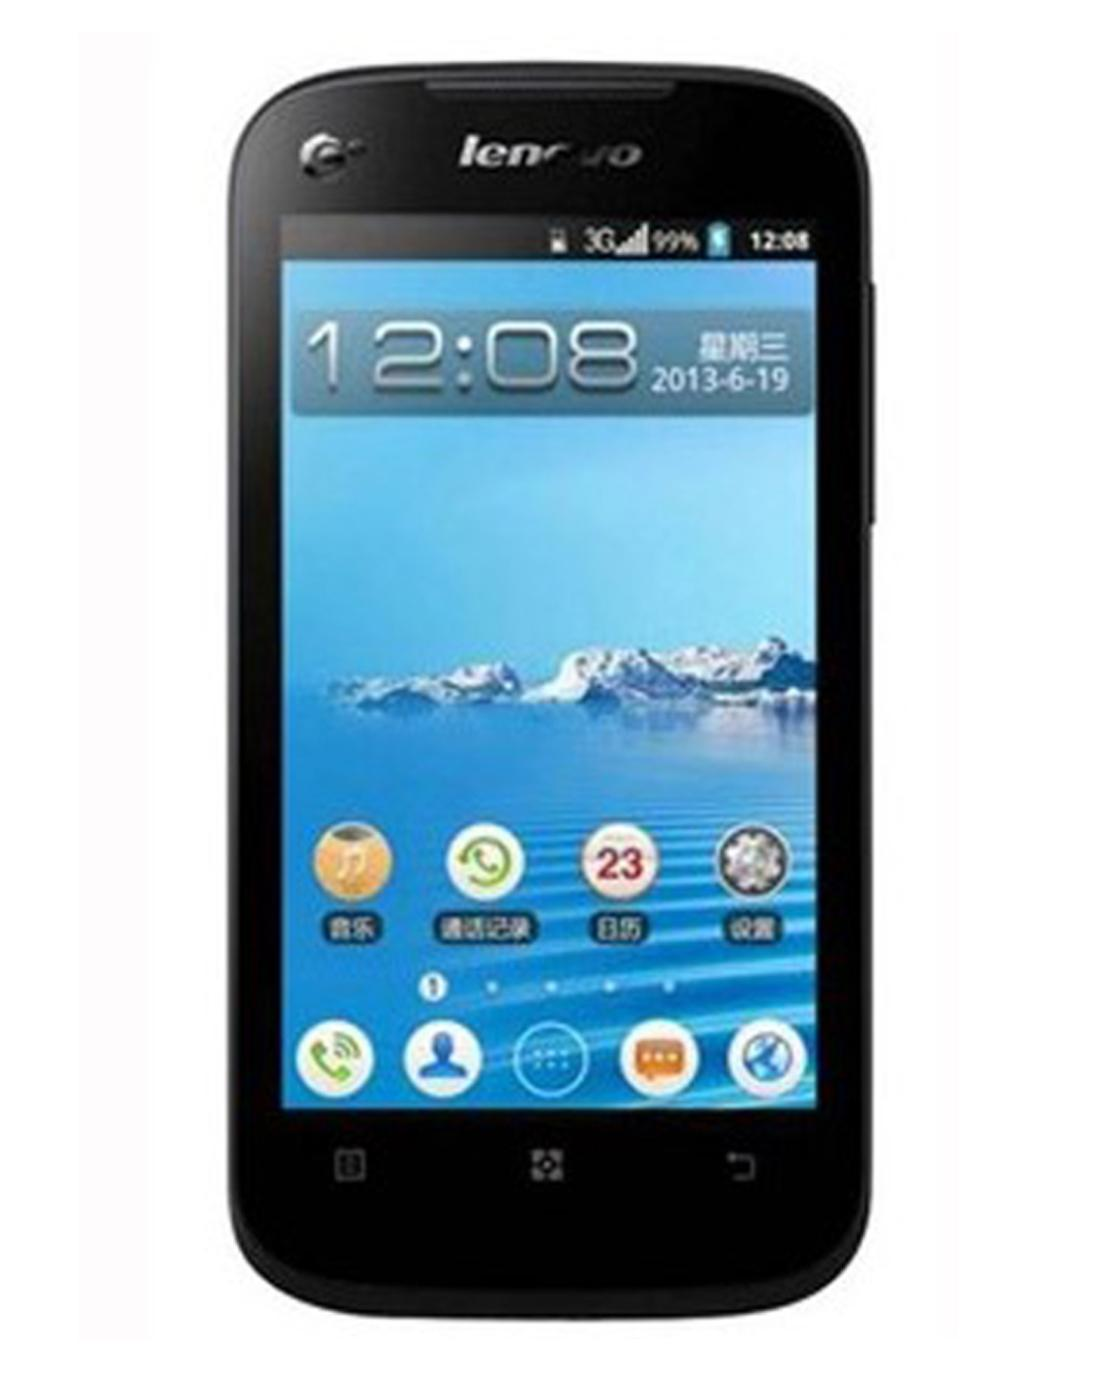phone: (228, 65, 877, 1307)
